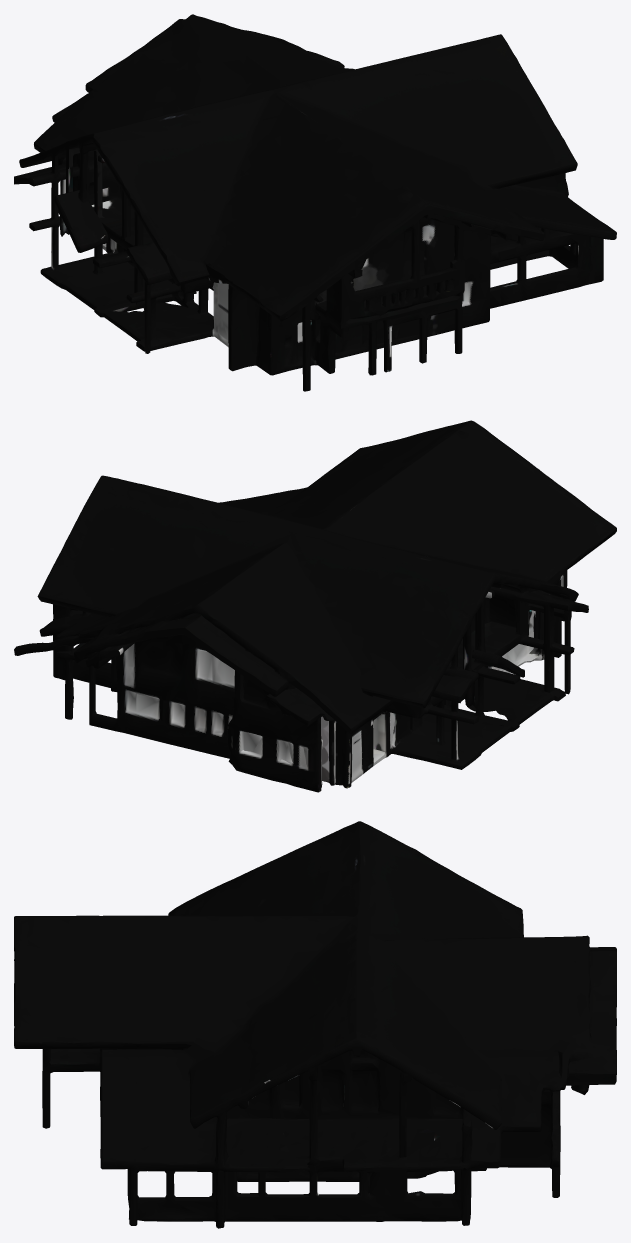
The picture shows the model from 3 angles, top to bottom: view 1: azimuth 30°, elevation 25°; view 2: azimuth 150°, elevation 25°; view 3: azimuth 270°, elevation 25°; orthographic projection. The views are drawn at different scales.
Visible parts, largest first — view 1: textured_mesh; view 2: textured_mesh; view 3: textured_mesh.
Part boxes in pixels (x1,y1,x2,y2): textured_mesh: (14,14,616,391); textured_mesh: (14,420,616,792); textured_mesh: (14,821,616,1228).
Bounding box in the file's own units: 1.84 × 0.6985 × 1.99.
1 material, 1 textured.
